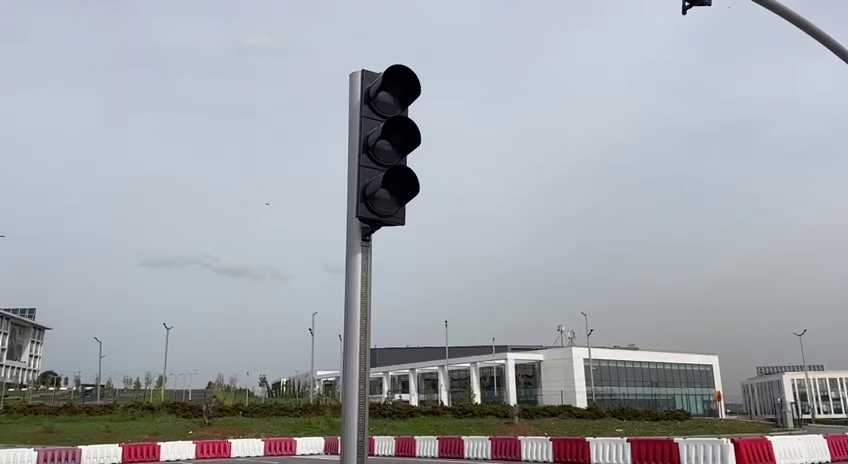trafficLight: (342, 59, 426, 235)
